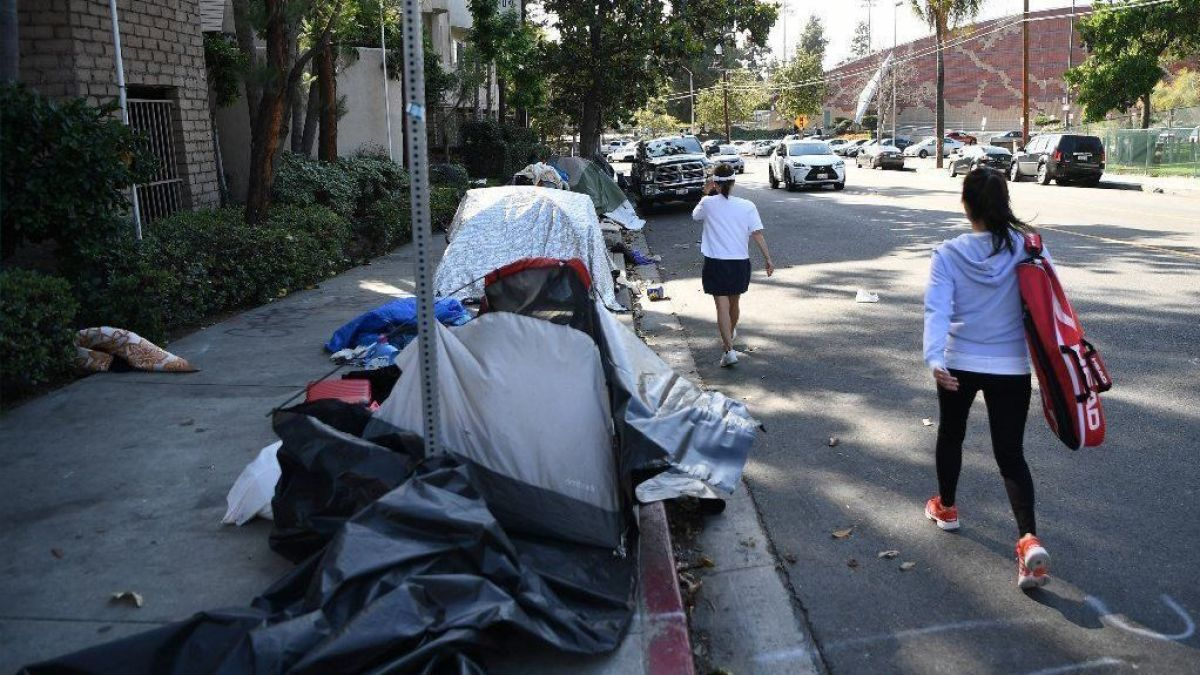car: (630, 132, 716, 213), (1017, 130, 1112, 189), (762, 139, 848, 191), (950, 141, 1019, 180), (700, 142, 750, 177), (852, 139, 904, 171), (900, 132, 949, 154)
person: (895, 159, 1144, 601), (682, 158, 789, 373)
